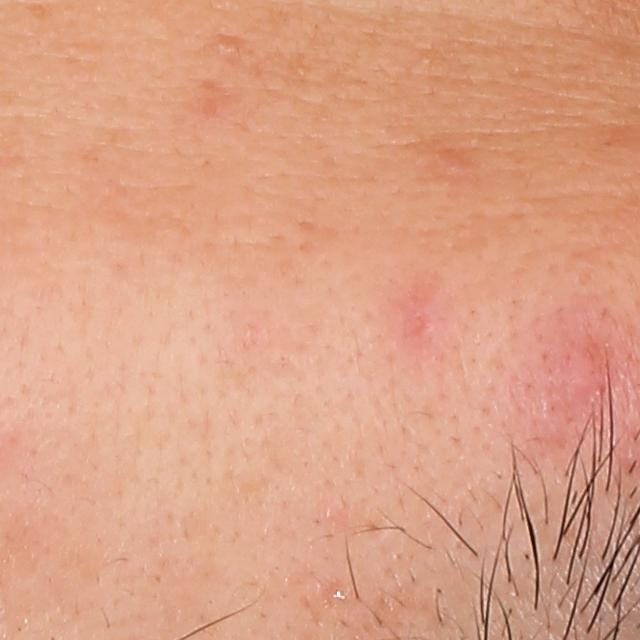comedo: (211, 32, 243, 61)
